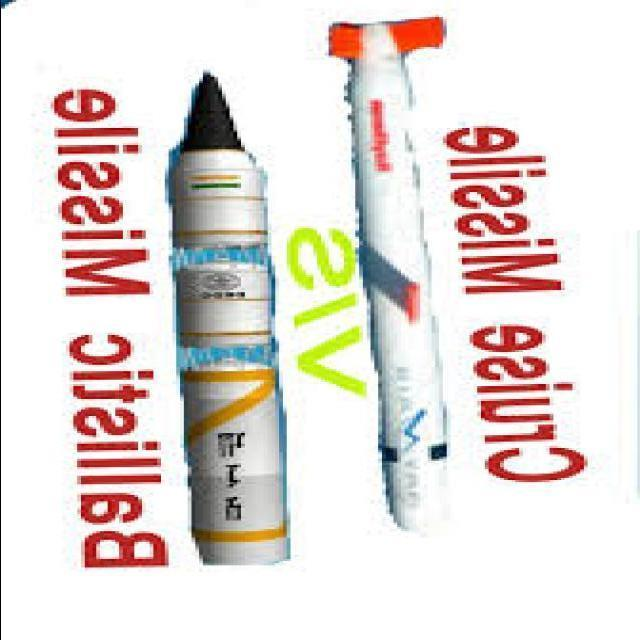Missile: (148, 80, 312, 577), (333, 5, 449, 558)
